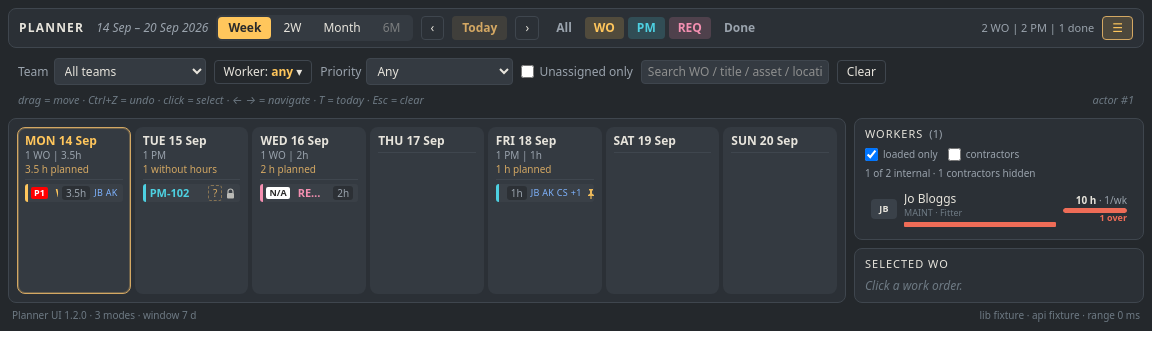
Test: PlannerView - moves (DP3b) › a drop posts the oracle body; ok draws the chip on its new day, toasts with Undo and refetches
The image size is (1152, 348).
Step 1. Press the mouse on the element with class "chip" showing "P1 WO-101 3.5h JB AK" → (74, 193), box [25, 184, 123, 202]
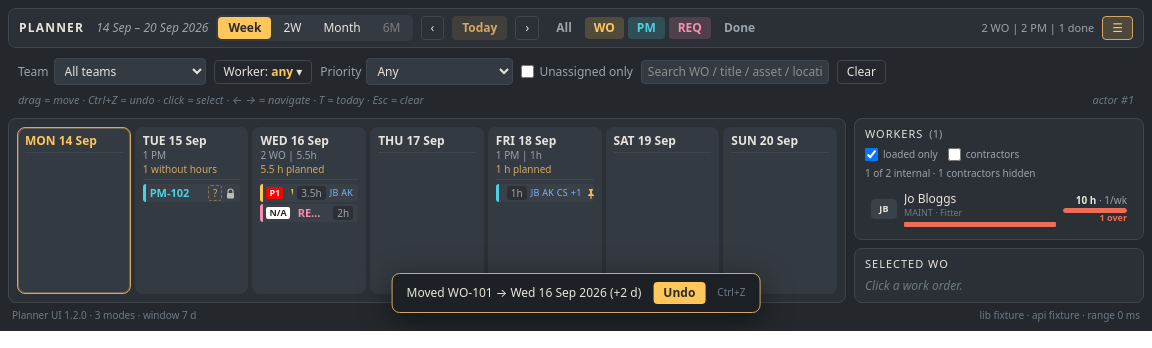
Check: the element with class "chip" showing "P1 WO-101 3.5h JB AK" is shown, box [260, 184, 358, 202]
Check: the text with class "msg" reads "Moved WO-101 → Wed 16 Sep 2026 (+2 d)", box [407, 284, 641, 300]
Check: the button "Undo" is shown, box [653, 282, 705, 304]
